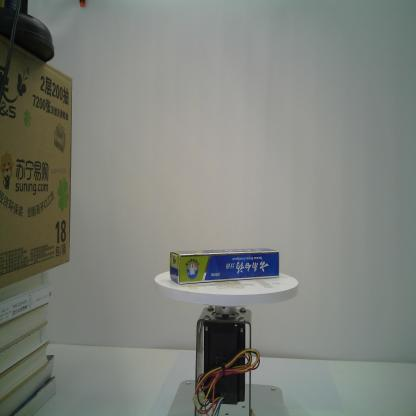Personal Hygiene: (169, 247, 280, 285)
